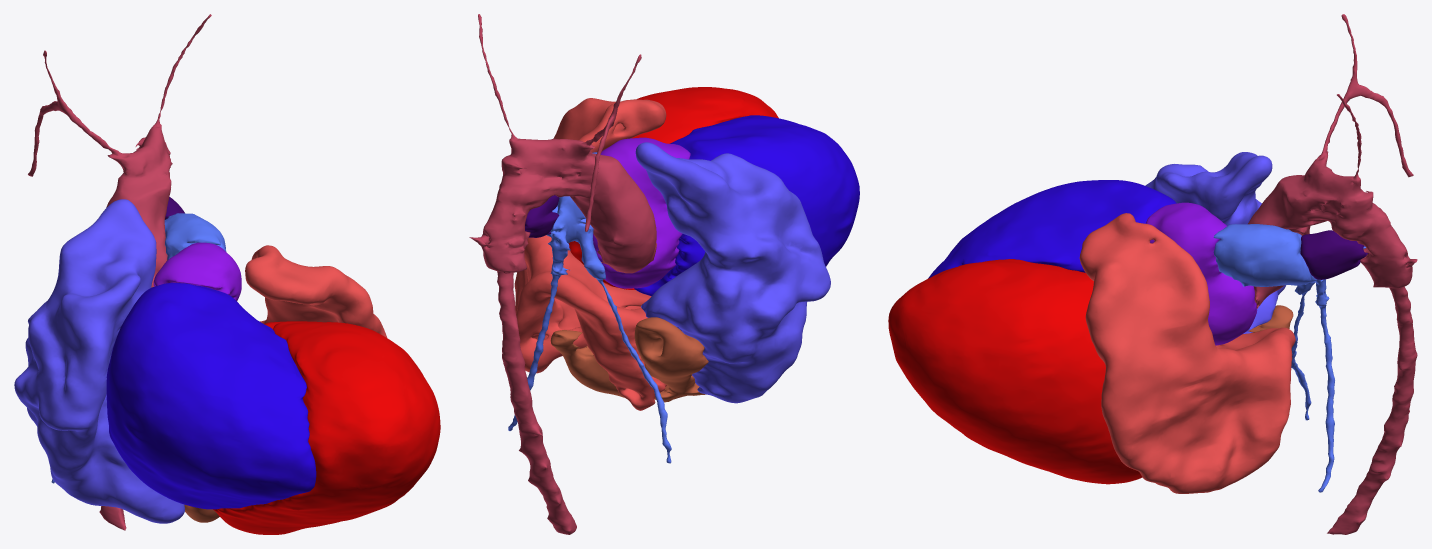
File: CS20-heart.glb
3 views of the same model, side by side, from view 1: azimuth 30°, elevation 25°; view 2: azimuth 150°, elevation 25°; view 3: azimuth 270°, elevation 25° (orthographic). The views are drawn at different scales.
Visible parts, largest first — view 1: CS20_N913_right-ventricle.surf, CS20_N913_right-atrium, CS20-913-left-ventricle, CS20_N913_left-atrium, CS20_N913_aorta, CS20_N913_outflow, CS20_N913_pulmonary; view 2: CS20_N913_right-atrium, CS20_N913_aorta, CS20_N913_left-atrium, CS20_N913_right-ventricle.surf, CS20_N913_veins, CS20-913-left-ventricle, CS20_N913_pulmonary, CS20_N913_outflow, CS20_N913_ductus-arteriosus; view 3: CS20_N913_left-atrium, CS20-913-left-ventricle, CS20_N913_aorta, CS20_N913_right-ventricle.surf, CS20_N913_pulmonary, CS20_N913_right-atrium, CS20_N913_outflow, CS20_N913_ductus-arteriosus.
Boxes of the visible parts, bbox=[...] form: CS20_N913_right-ventricle.surf: bbox=[106, 282, 316, 509]; CS20_N913_right-atrium: bbox=[14, 199, 184, 523]; CS20-913-left-ventricle: bbox=[213, 321, 440, 534]; CS20_N913_left-atrium: bbox=[245, 245, 387, 337]; CS20_N913_aorta: bbox=[28, 14, 211, 530]; CS20_N913_outflow: bbox=[153, 242, 241, 300]; CS20_N913_pulmonary: bbox=[51, 213, 226, 483]; CS20_N913_right-atrium: bbox=[635, 142, 830, 403]; CS20_N913_aorta: bbox=[469, 14, 656, 534]; CS20_N913_left-atrium: bbox=[514, 98, 666, 410]; CS20_N913_right-ventricle.surf: bbox=[634, 115, 859, 296]; CS20_N913_veins: bbox=[550, 317, 708, 402]; CS20-913-left-ventricle: bbox=[568, 87, 778, 289]; CS20_N913_pulmonary: bbox=[508, 152, 671, 463]; CS20_N913_outflow: bbox=[593, 137, 690, 288]; CS20_N913_ductus-arteriosus: bbox=[525, 195, 559, 237]; CS20_N913_left-atrium: bbox=[1079, 213, 1295, 493]; CS20-913-left-ventricle: bbox=[888, 259, 1142, 484]; CS20_N913_aorta: bbox=[1248, 14, 1417, 534]; CS20_N913_right-ventricle.surf: bbox=[928, 180, 1176, 278]; CS20_N913_pulmonary: bbox=[1213, 224, 1366, 492]; CS20_N913_right-atrium: bbox=[1145, 152, 1285, 333]; CS20_N913_outflow: bbox=[1146, 202, 1257, 345]; CS20_N913_ductus-arteriosus: bbox=[1300, 230, 1368, 279].
Size of the model in its own units: 281 by 410 by 405.
